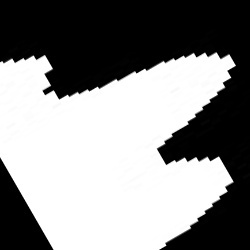spot: (1, 52, 236, 248)
